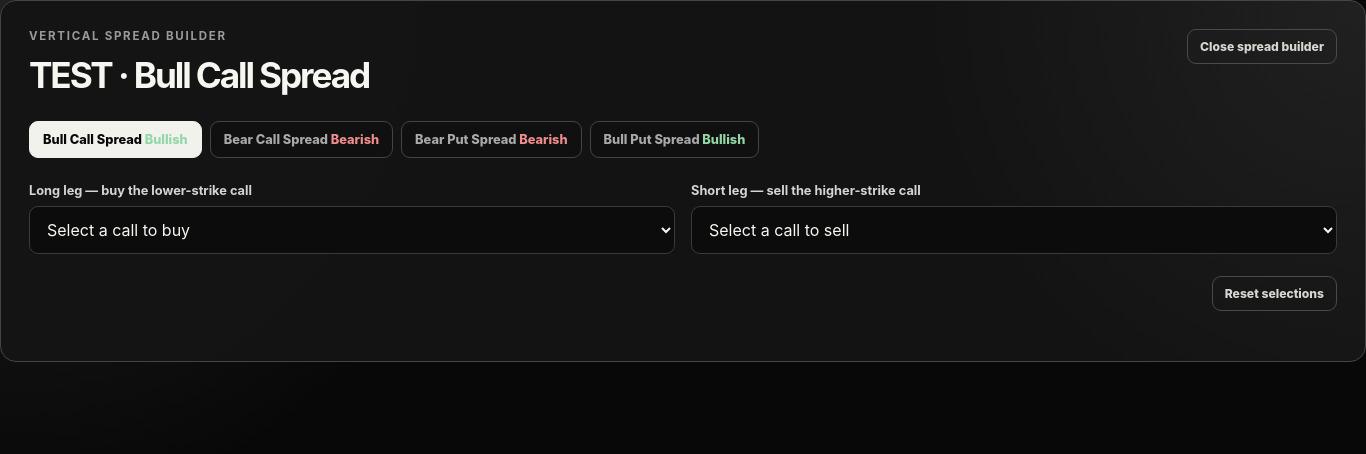
VerticalSpreadBuilder › catches an unexpected engine validation error instead of crashing
Select "$100.00 · ask $3.00" in the dropdown labelled "Long leg — buy the lower-strike call" at [352, 230], box [29,206,675,254]
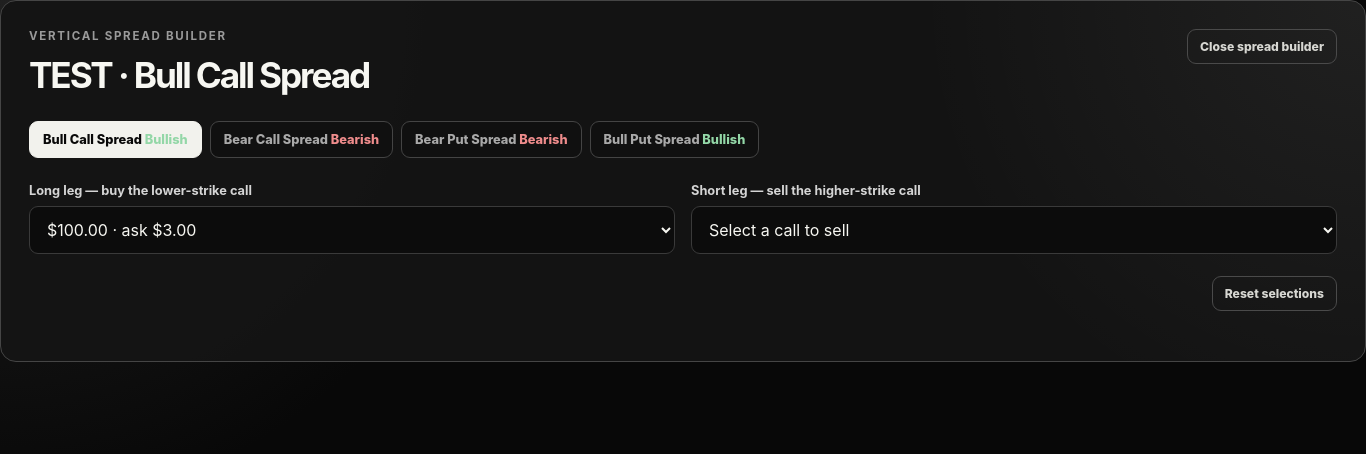
Select "$100.00 · bid $2.90 — must be higher than long leg ($100.00)" in the dropdown labelled "Short leg — sell the higher-strike call" at [1014, 230], box [691,206,1337,254]
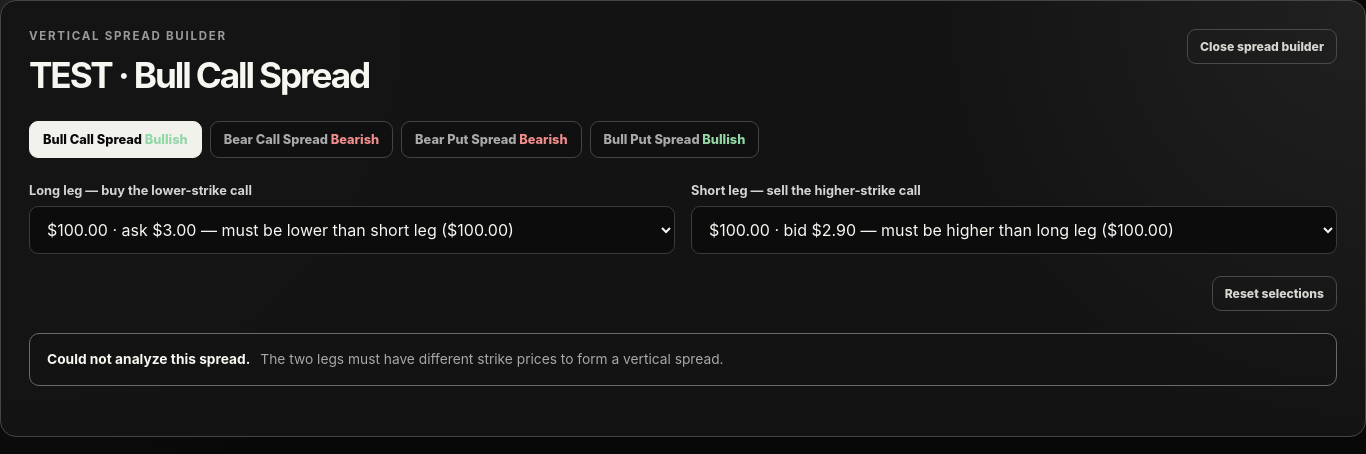
Expected: the button "Bull Call Spread Bullish" is shown, [29,121,202,158]
Expected: the message shows "Could not analyze this spread.", [47,351,250,367]
Expected: the message shows "different strike prices", [260,351,724,367]
